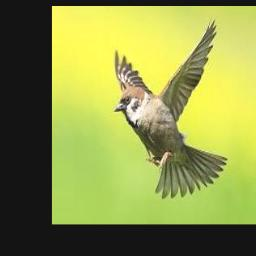Sparrow: (114, 17, 228, 199)
